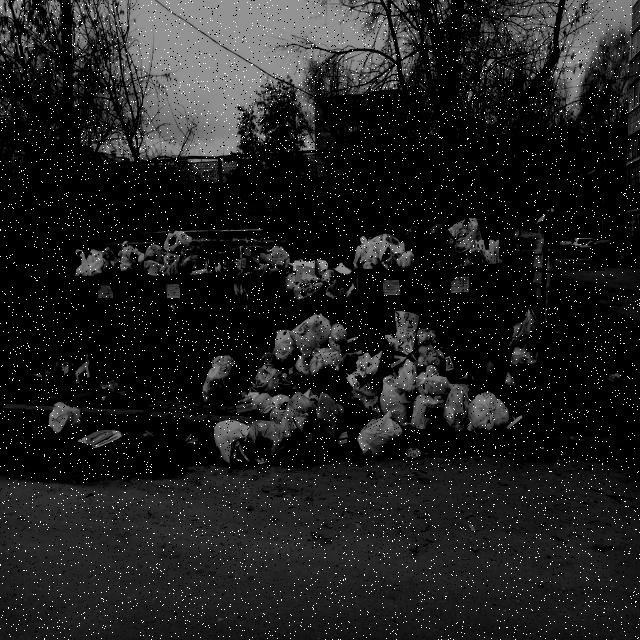Trashcan: (204, 215, 297, 386), (416, 228, 520, 372), (135, 214, 221, 386), (72, 233, 157, 393), (344, 228, 432, 369), (282, 240, 364, 376)
